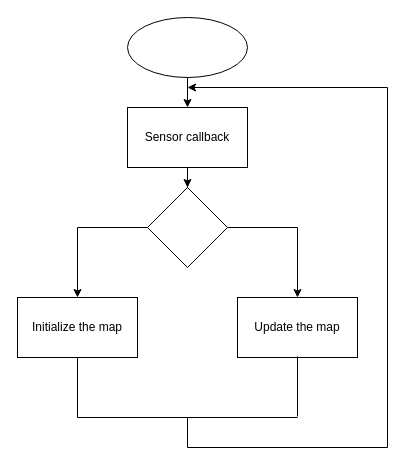
The diagram is 413 pixels wide and 466 high, and some of its shapes have lost their labels. The shapes that lost their labels are listed below. From the top down, each one's box as (x1, y1, x2, y2) in pixels, then its label:
(126, 16, 248, 78): Start
(146, 186, 228, 268): Is map initiated?
